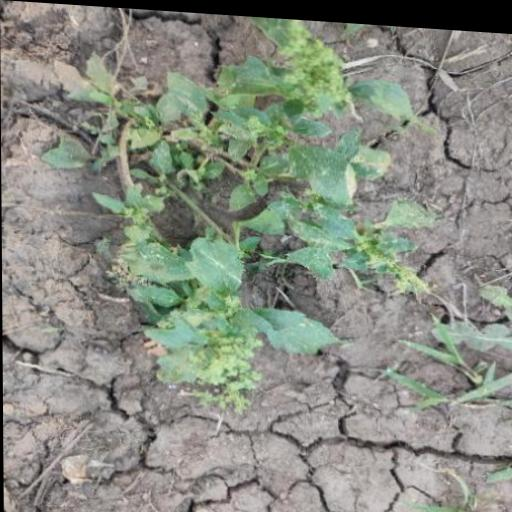weed: (68, 49, 399, 402)
